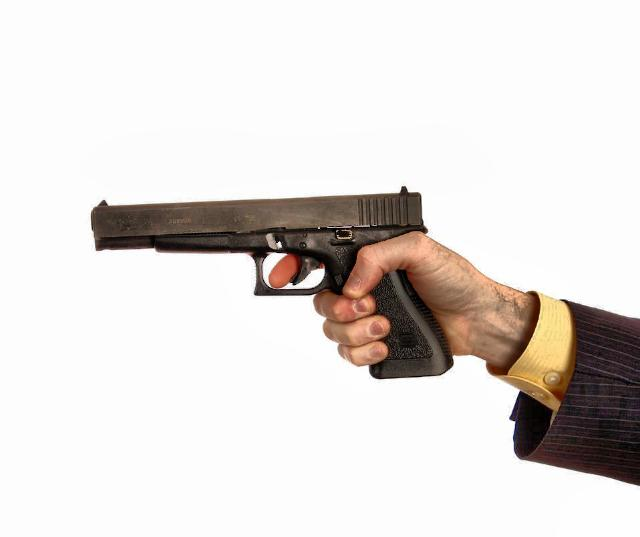pistol: (86, 174, 454, 382)
